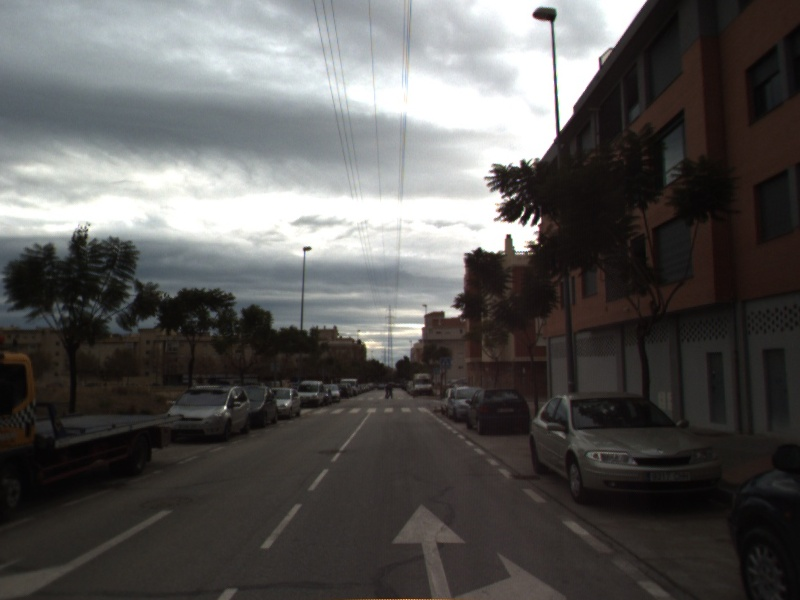STRAIGHT_RIGHT: (388, 500, 570, 600)
